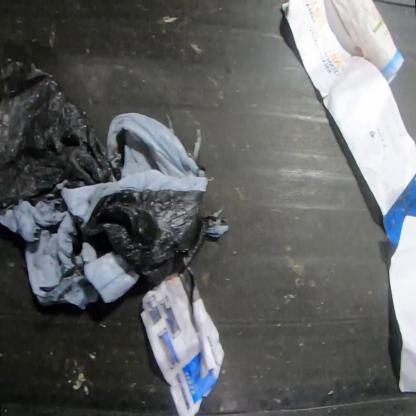soft_plastic: (0, 55, 228, 310)
